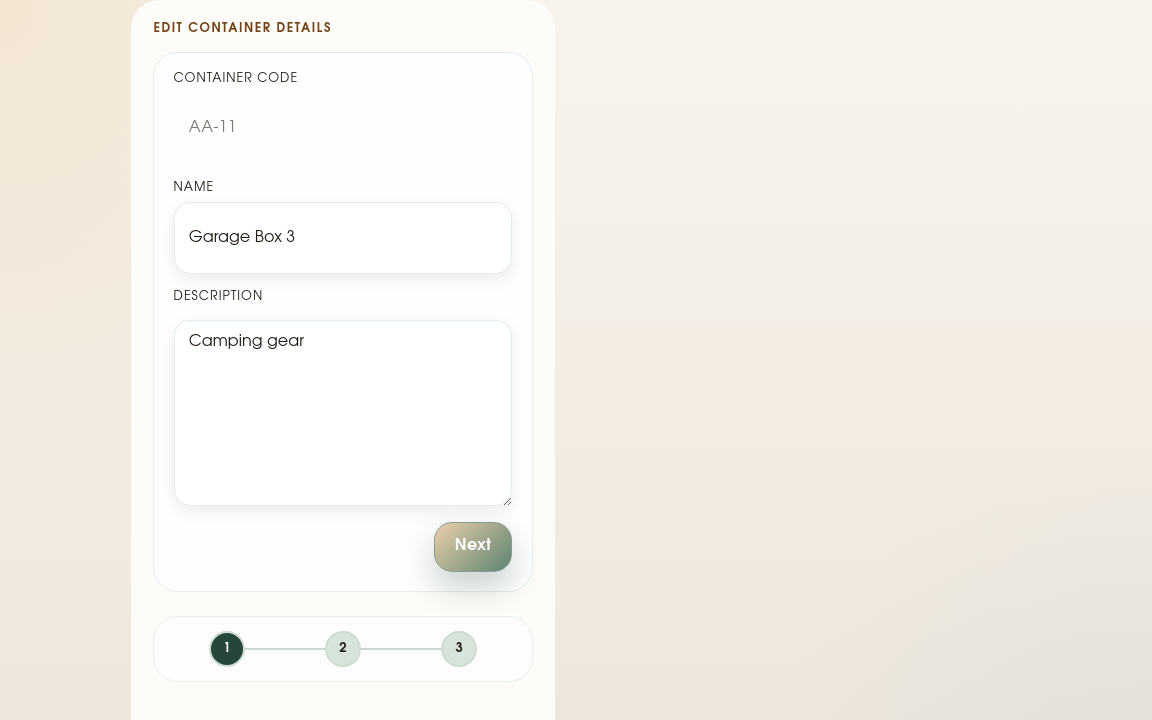
Test: container detail route › allows navigating steps from the bottom stepper
Replace the text in the text box labelled "Description" with "Repacked gear" at (343, 413), box [174,320,512,506]
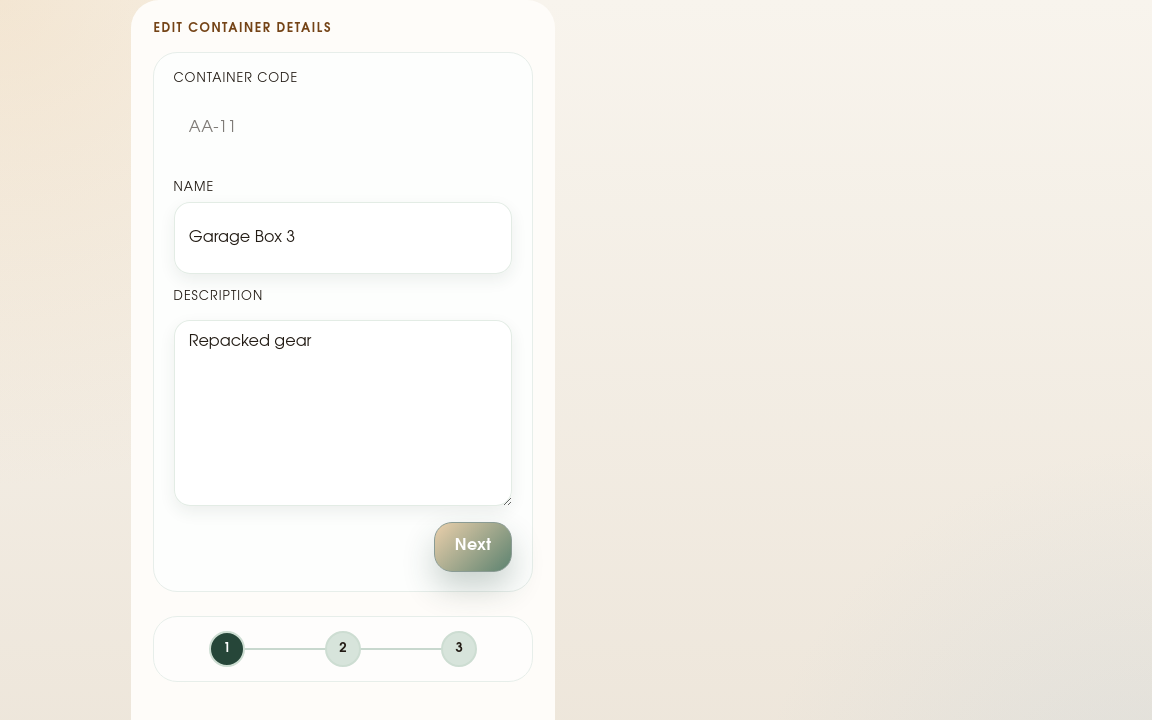
Click the button named "go to room/tags/color" at (343, 649), box [285,631,401,667]
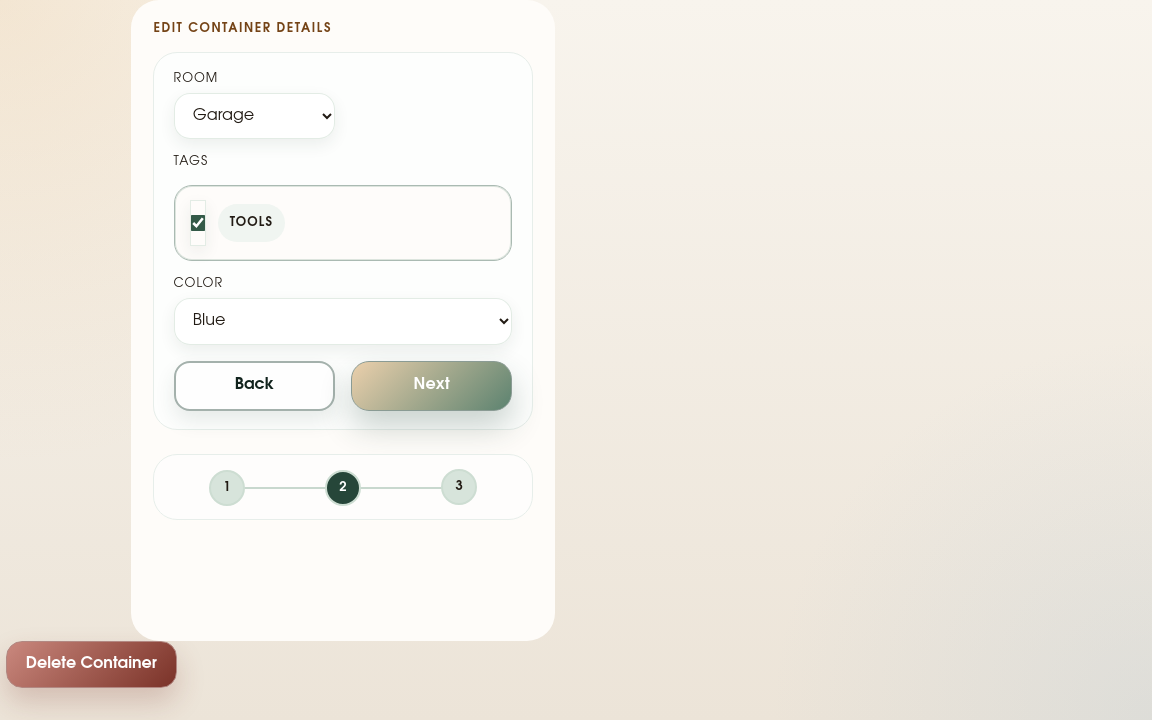
expect the dropdown labelled "Room" is shown: met, box [174,93,335,139]
